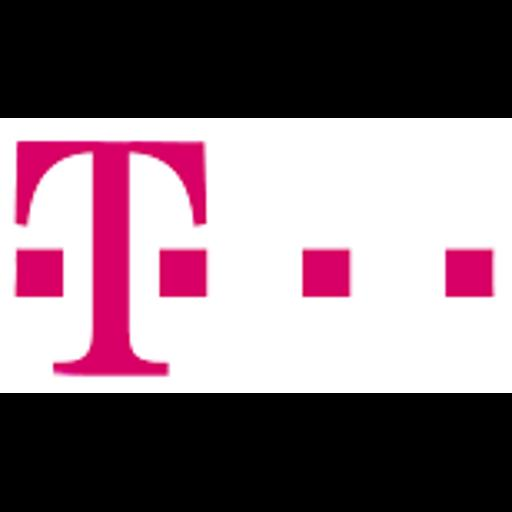Deutsche Telekom: (0, 118, 512, 393)
